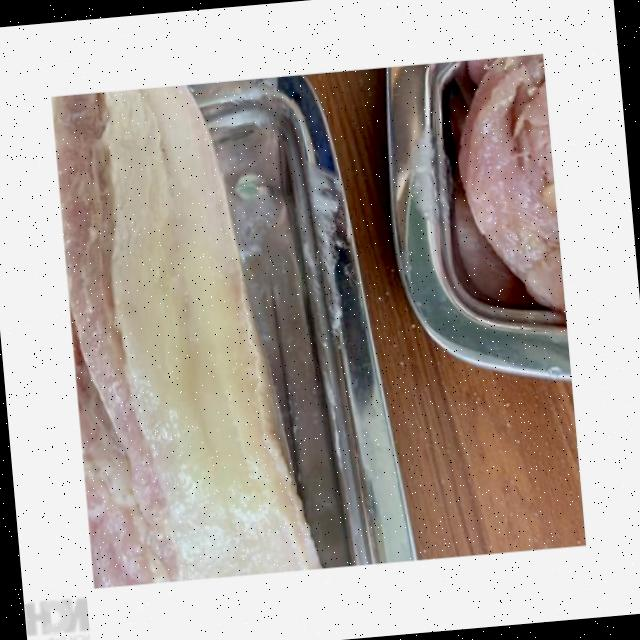rotten meat: (29, 29, 608, 596)
